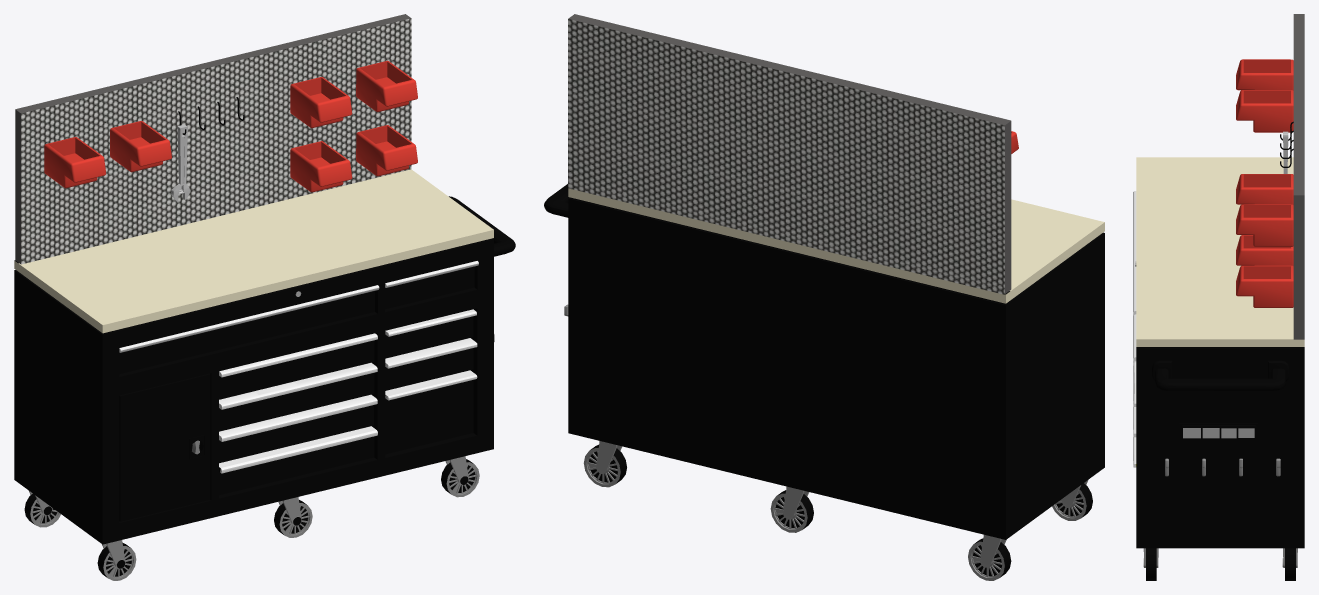
Rendered from workstation-heavy-duty.glb.
3 views of the same model, side by side, from view 1: azimuth 30°, elevation 25°; view 2: azimuth 150°, elevation 25°; view 3: azimuth 270°, elevation 25° (orthographic). The views are drawn at different scales.
Visible parts, largest first — view 1: workstation, back_board, Cube.004, Cube.002, Cube.006, Cube.003, Cube.005, Cube.001, Cylinder, Cylinder.004, Cylinder.002, spanner (+1 smaller); view 2: workstation, back_board, Cylinder.001, Cylinder.005, Cylinder.003, Cylinder.004; view 3: workstation, back_board, Cube.003, Cube.001, Cube.005, Cube.006, Cube.002, Cube.004, Cylinder, Cylinder.001.
Part boxes in pixels (box(x1,y1,x2,y2)): workstation: box(14, 169, 515, 544); back_board: box(15, 14, 411, 264); Cube.004: box(290, 141, 352, 192); Cube.002: box(290, 77, 352, 128); Cube.006: box(44, 137, 106, 188); Cube.003: box(356, 125, 417, 176); Cube.005: box(110, 121, 171, 172); Cube.001: box(356, 60, 417, 111); Cylinder: box(441, 456, 479, 497); Cylinder.004: box(97, 540, 136, 580); Cylinder.002: box(274, 497, 312, 537); spanner: box(171, 124, 190, 201); workstation: box(544, 184, 1104, 539); back_board: box(568, 14, 1011, 294); Cylinder.001: box(583, 441, 626, 487); Cylinder.005: box(968, 534, 1011, 580); Cylinder.003: box(770, 486, 813, 532); Cylinder.004: box(1052, 479, 1092, 520); workstation: box(1133, 157, 1304, 548); back_board: box(1293, 14, 1304, 339); Cube.003: box(1236, 265, 1293, 307); Cube.001: box(1236, 204, 1293, 246); Cube.005: box(1236, 90, 1293, 132); Cube.006: box(1236, 59, 1293, 90); Cube.002: box(1236, 174, 1293, 204); Cube.004: box(1236, 235, 1293, 265); Cylinder: box(1143, 548, 1158, 580); Cylinder.001: box(1282, 548, 1297, 580).
Bounding box in the file's own units: 1.72 × 1.6 × 0.6288.
Materials: 2 (2 with a texture image).
